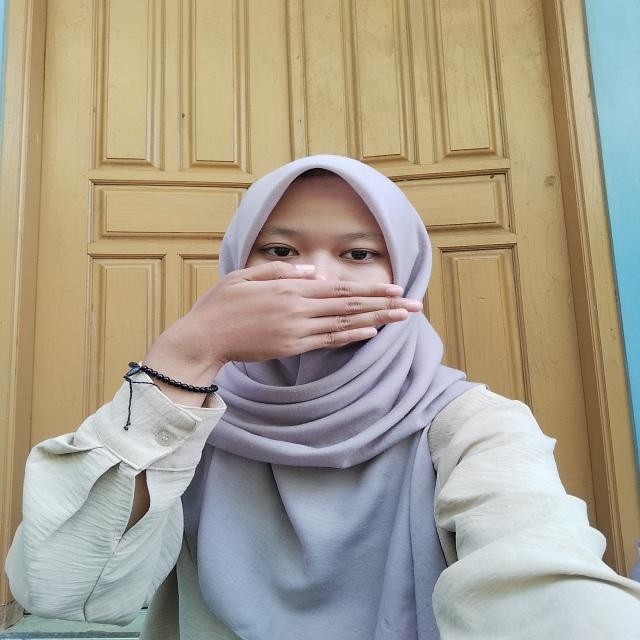buruk: (146, 246, 435, 371)
